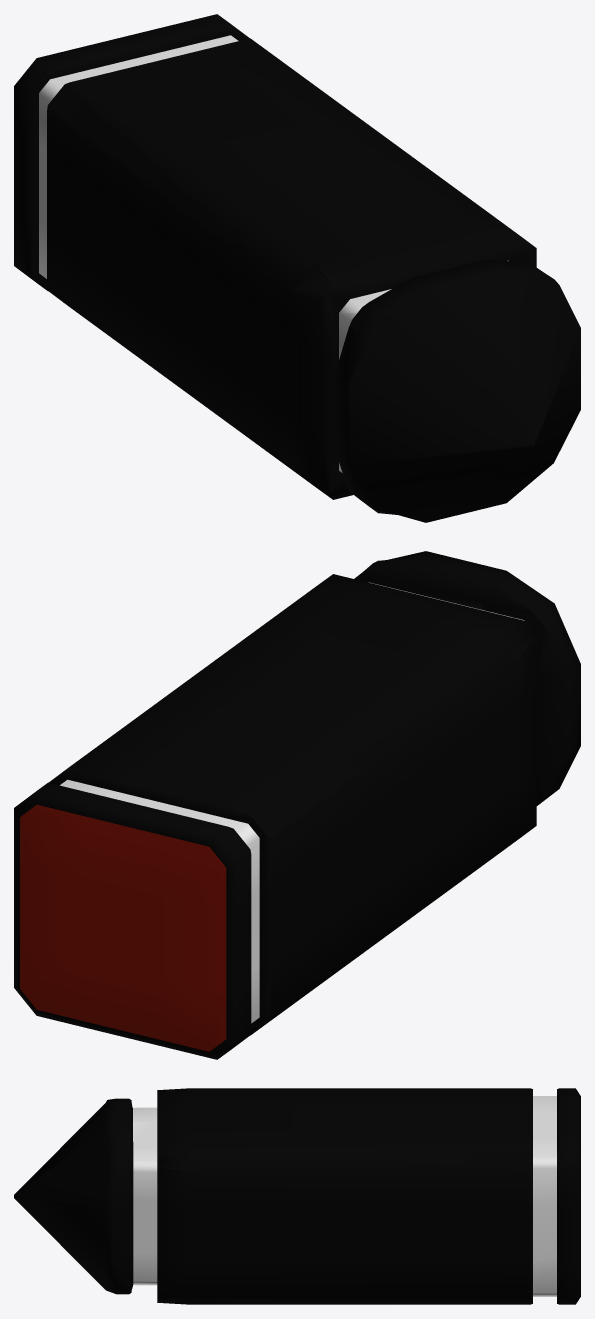
File: CHBullet.fbx
3 views of the same model, one above another, from view 1: azimuth 30°, elevation 25°; view 2: azimuth 150°, elevation 25°; view 3: azimuth 270°, elevation 25° (orthographic). The views are drawn at different scales.
Visible parts, largest first — view 1: pCube1; view 2: pCube1; view 3: pCube1.
Boxes of the visible parts, x1,y1,x2,y2 form: pCube1: [14, 14, 580, 522]; pCube1: [14, 551, 580, 1059]; pCube1: [14, 1088, 580, 1304].
Bounding box in the file's own units: 2.88 × 8.92 × 2.79.
